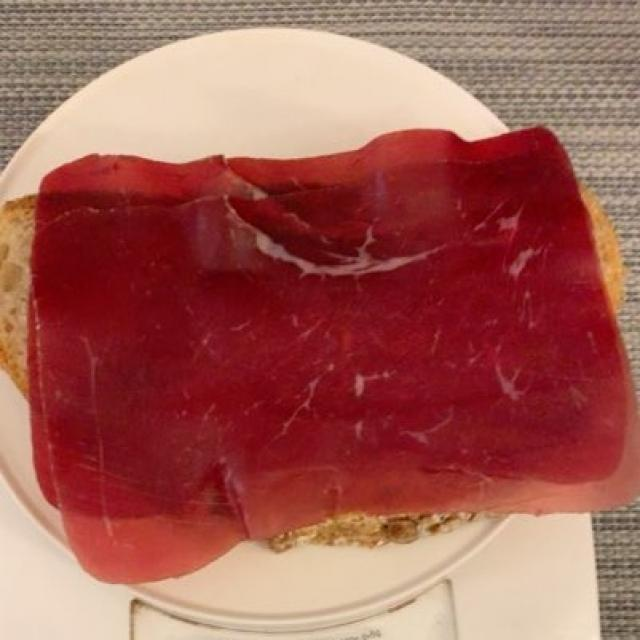dried-meat: (12, 135, 622, 564)
